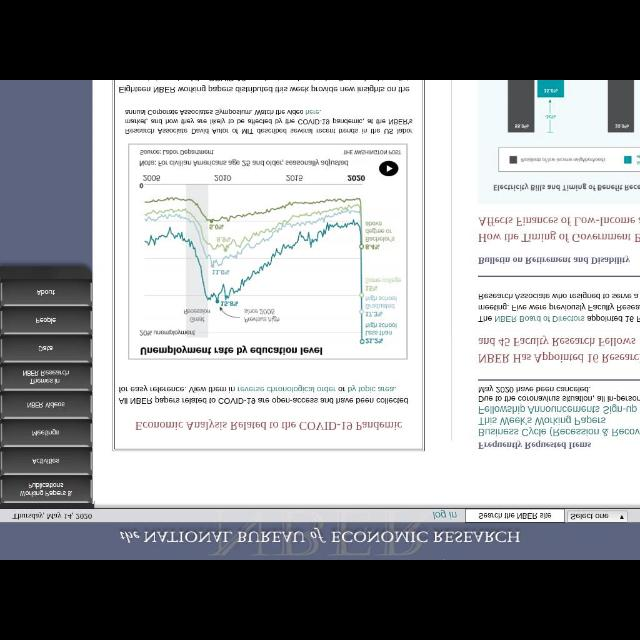backgroundimage: (1, 524, 639, 558)
icon: (620, 515, 624, 519)
image: (128, 144, 408, 360), (479, 81, 639, 203)
input: (465, 508, 565, 522)
panel: (1, 264, 93, 506)
spinner: (568, 511, 628, 522)
text: (478, 386, 640, 436), (125, 108, 413, 134), (120, 527, 520, 543), (120, 384, 408, 404), (479, 293, 639, 323), (478, 215, 640, 242), (479, 338, 639, 364), (136, 421, 402, 431), (120, 85, 410, 93), (478, 256, 630, 264), (477, 440, 591, 450), (19, 482, 73, 498), (23, 370, 69, 384), (12, 512, 92, 520), (478, 513, 552, 519), (432, 510, 458, 520), (570, 513, 610, 519), (26, 402, 66, 408), (32, 429, 60, 437), (32, 458, 59, 464), (36, 316, 56, 324), (36, 290, 56, 296), (37, 346, 53, 352)
